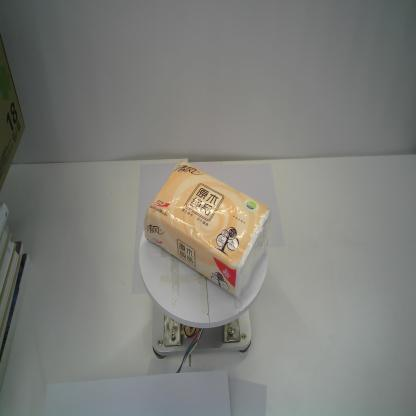Tissue: (143, 159, 272, 297)
